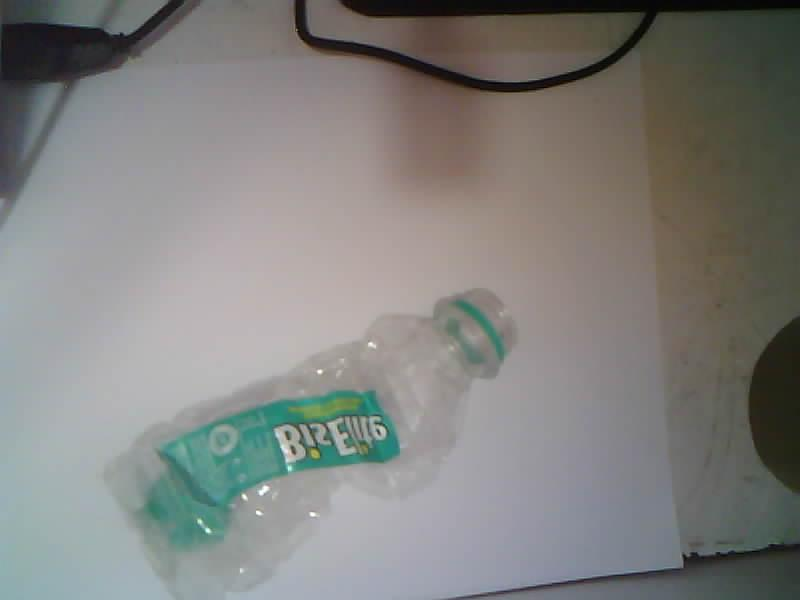non-biodegradable: (107, 290, 513, 599)
